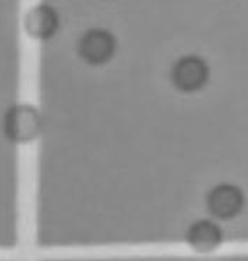cell: (1, 95, 50, 149), (72, 23, 120, 69), (165, 50, 212, 95), (201, 177, 244, 223), (18, 1, 61, 42), (181, 215, 224, 256)
